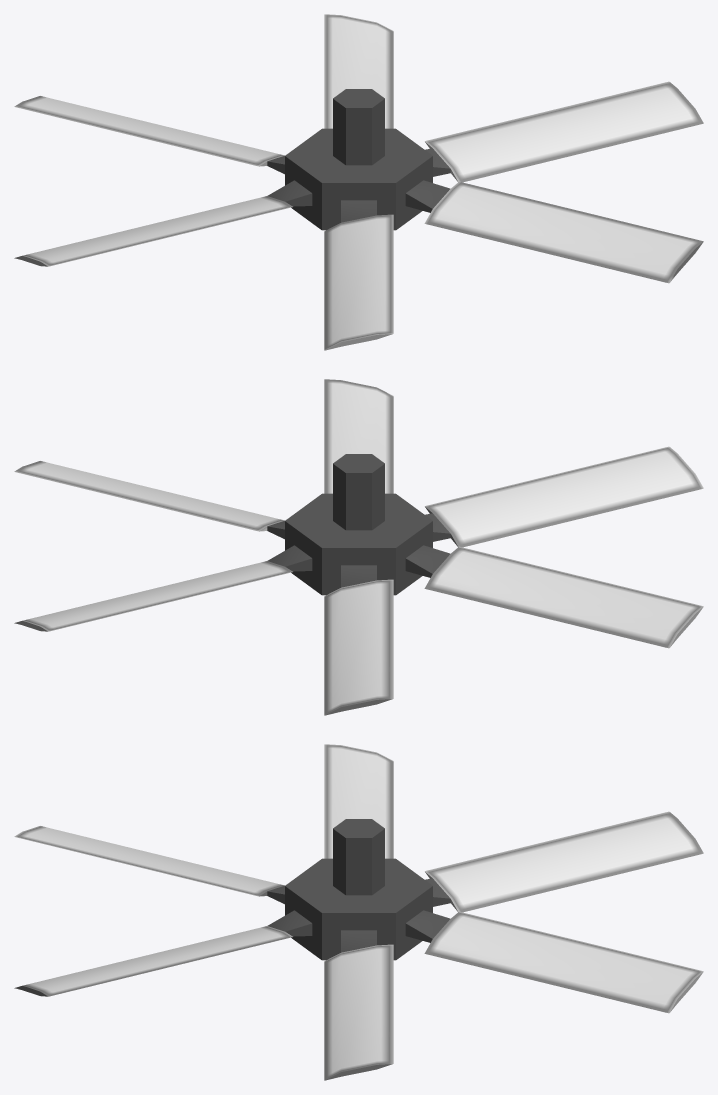
Rendered from CeilingFan.fbx.
3 renders of one model, top to bottom at view 1: azimuth 30°, elevation 25°; view 2: azimuth 150°, elevation 25°; view 3: azimuth 270°, elevation 25°, orthographic.
Parts seen in each view (by area): view 1: Ceiling Fan.009; view 2: Ceiling Fan.009; view 3: Ceiling Fan.009.
Part boxes in pixels (x1,y1,x2,y2): Ceiling Fan.009: [14, 14, 703, 350]; Ceiling Fan.009: [14, 379, 703, 715]; Ceiling Fan.009: [14, 744, 703, 1080].
Size of the model in its own units: 289 by 50.06 by 263.
